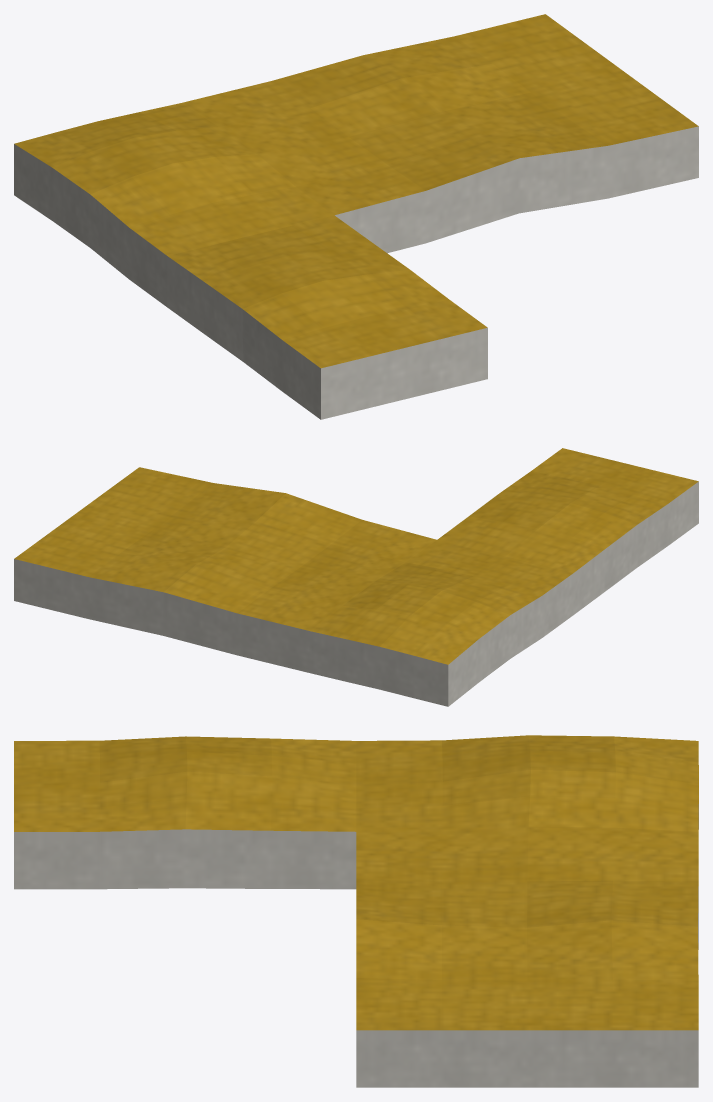
Rendered from Epidermisatas.fbx.
The picture shows the model from 3 angles, top to bottom: view 1: azimuth 30°, elevation 25°; view 2: azimuth 150°, elevation 25°; view 3: azimuth 270°, elevation 25°; orthographic projection. The views are drawn at different scales.
Visible parts, largest first — view 1: Sphere.002; view 2: Sphere.002; view 3: Sphere.002.
Part boxes in pixels (x1=…): Sphere.002: x1=14, y1=14, x2=698, y2=419; Sphere.002: x1=14, y1=448, x2=698, y2=706; Sphere.002: x1=14, y1=735, x2=698, y2=1087.
Size of the model in its own units: 201 by 23.88 by 200.
1 material, 1 textured.
